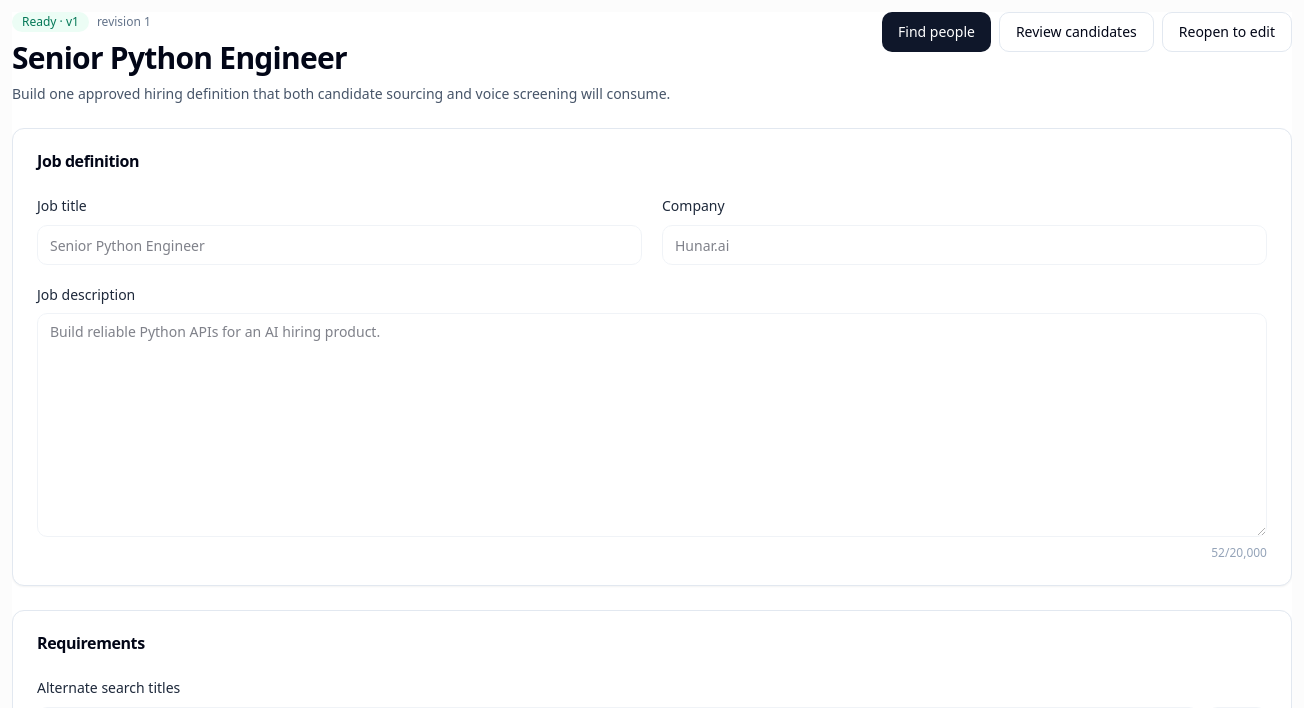
JobEditor › reopens a READY job before permitting definition edits
The width and height of the screenshot is (1304, 708).
Expected: the field labelled "Job title" is disabled, x1=37 y1=225 x2=642 y2=265
Click the button "Reopen to edit" at (1227, 32), box x1=1162 y1=12 x2=1292 y2=52
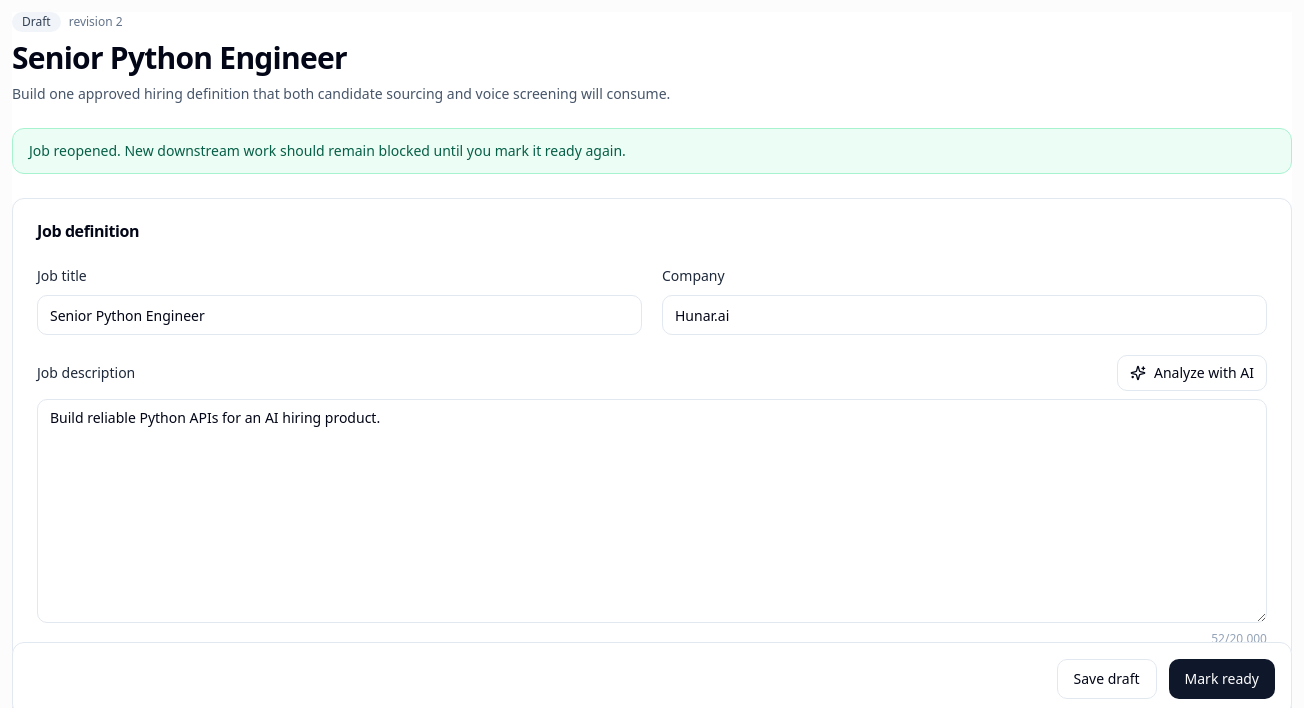
Now the field labelled "Job title" is enabled, box x1=37 y1=295 x2=642 y2=335
